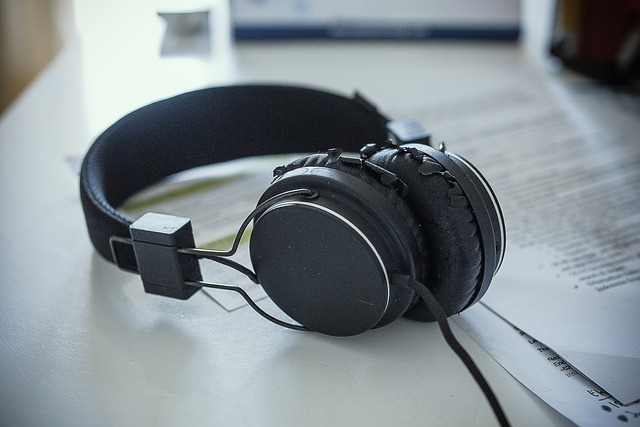headphones: (80, 82, 507, 338)
